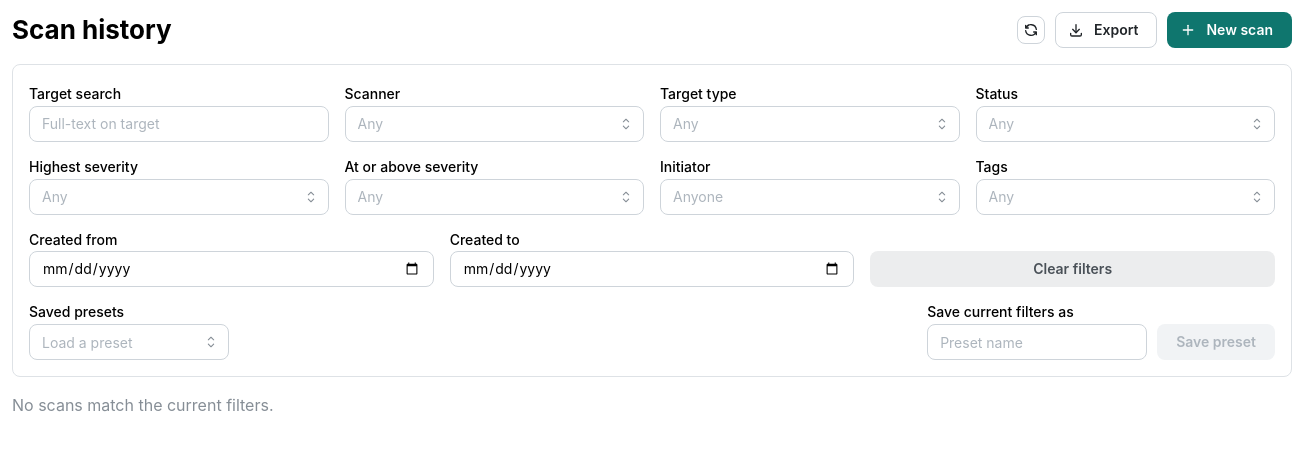
it: ScansPage — P3-1 URL-mirrored history view › mirrors an entered filter into the URL query string
Type "nginx" into the field labelled "Target search".
click(179, 124); type("nginx")  # box [29,106,328,142]
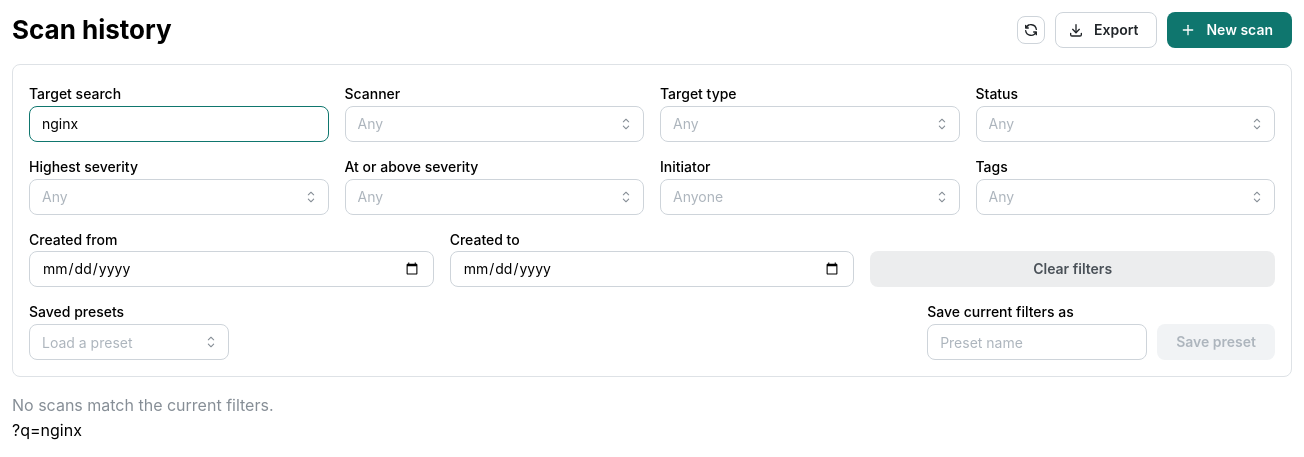
Result: the text with test id "loc" shows "q=nginx" at [12,420,82,440]
